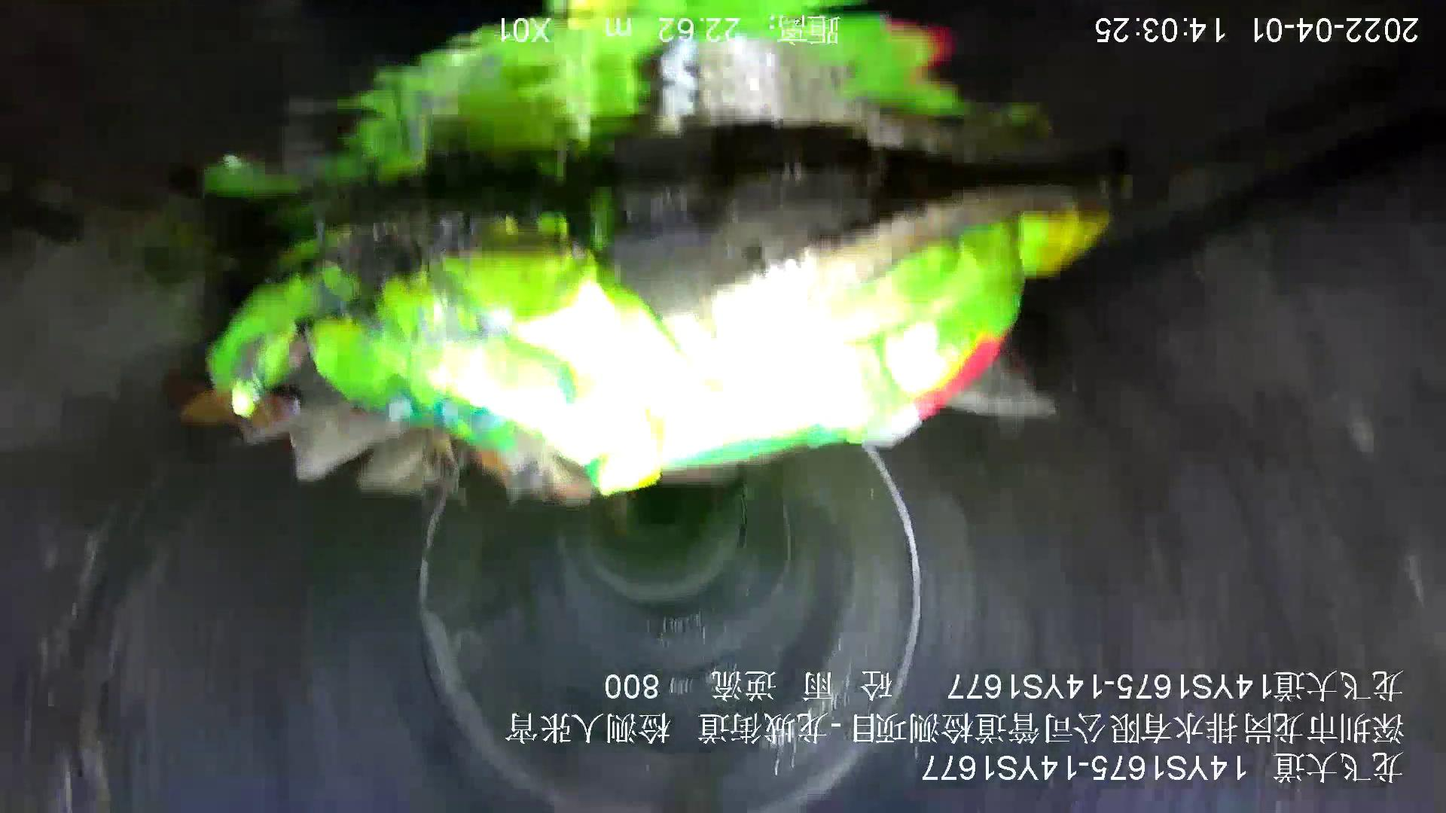ZAW: (208, 166, 1107, 504)
